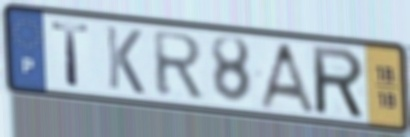8: (209, 34, 254, 108)
A: (254, 40, 318, 116)
K: (103, 23, 147, 98)
R: (309, 43, 367, 121), (149, 29, 206, 100)
T: (49, 19, 92, 89)
